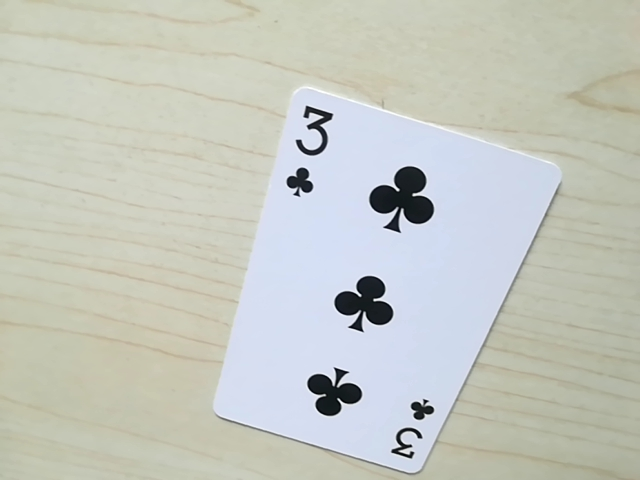mh 3: (278, 94, 341, 200), (385, 399, 436, 470)
